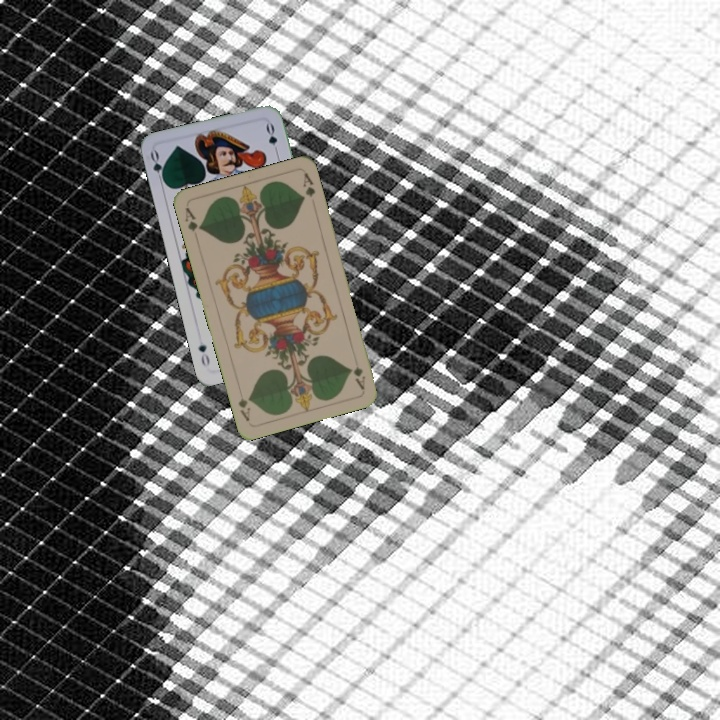GA: (181, 203, 204, 234), (349, 362, 368, 392)
GO: (146, 147, 168, 187)
